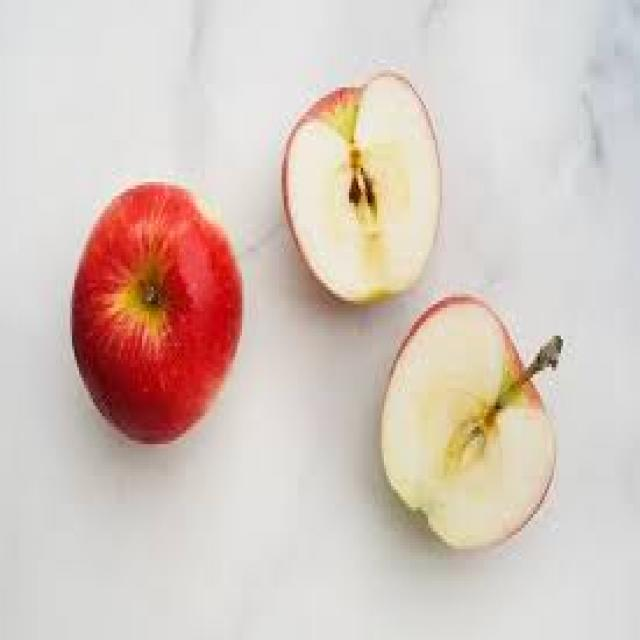Apple: (376, 296, 564, 552), (70, 180, 242, 447), (280, 68, 442, 304)
